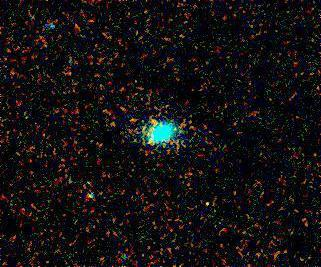star: (197, 190, 227, 220)
